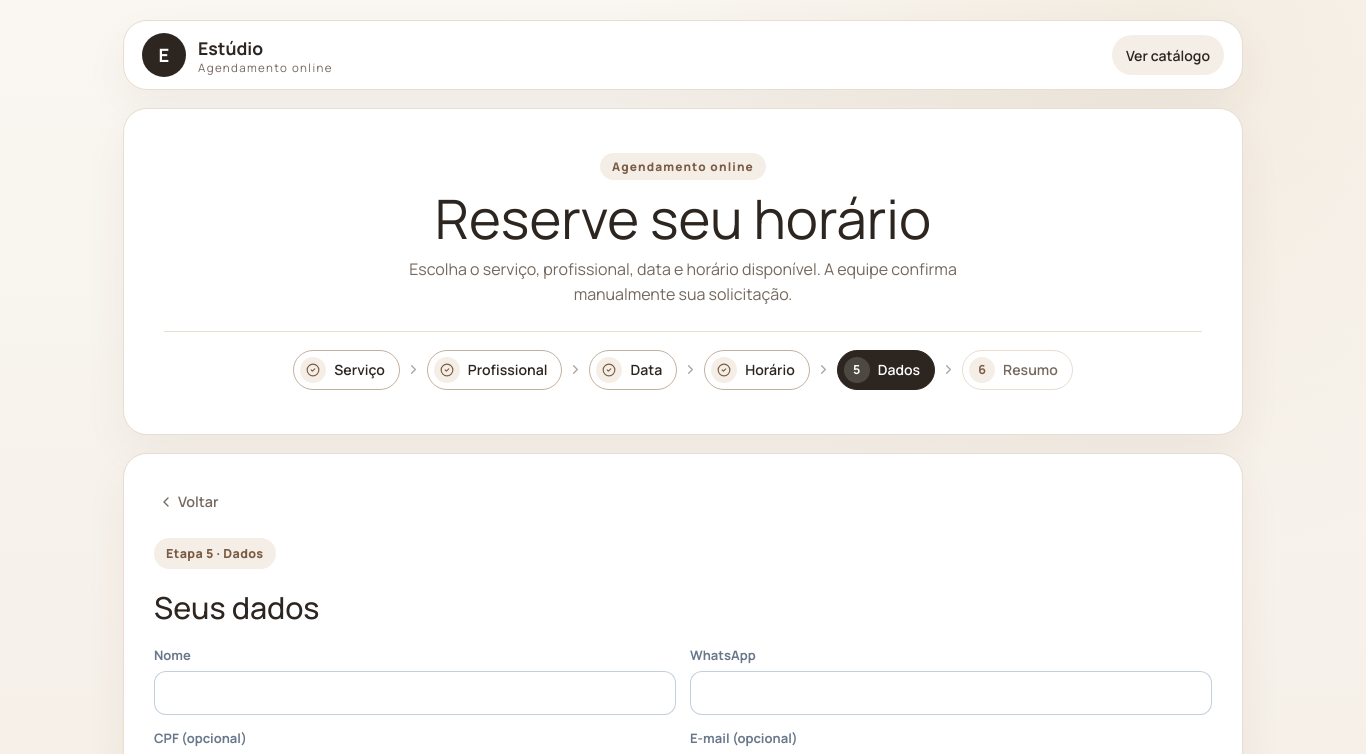
Test: PublicBooking · CPF › sem gateway, o CPF é opcional e não impede agendar
The image size is (1366, 754).
Type "Cliente Teste" into the field labelled "Nome".
click(415, 693); type("Cliente Teste")  # box [154,671,676,715]
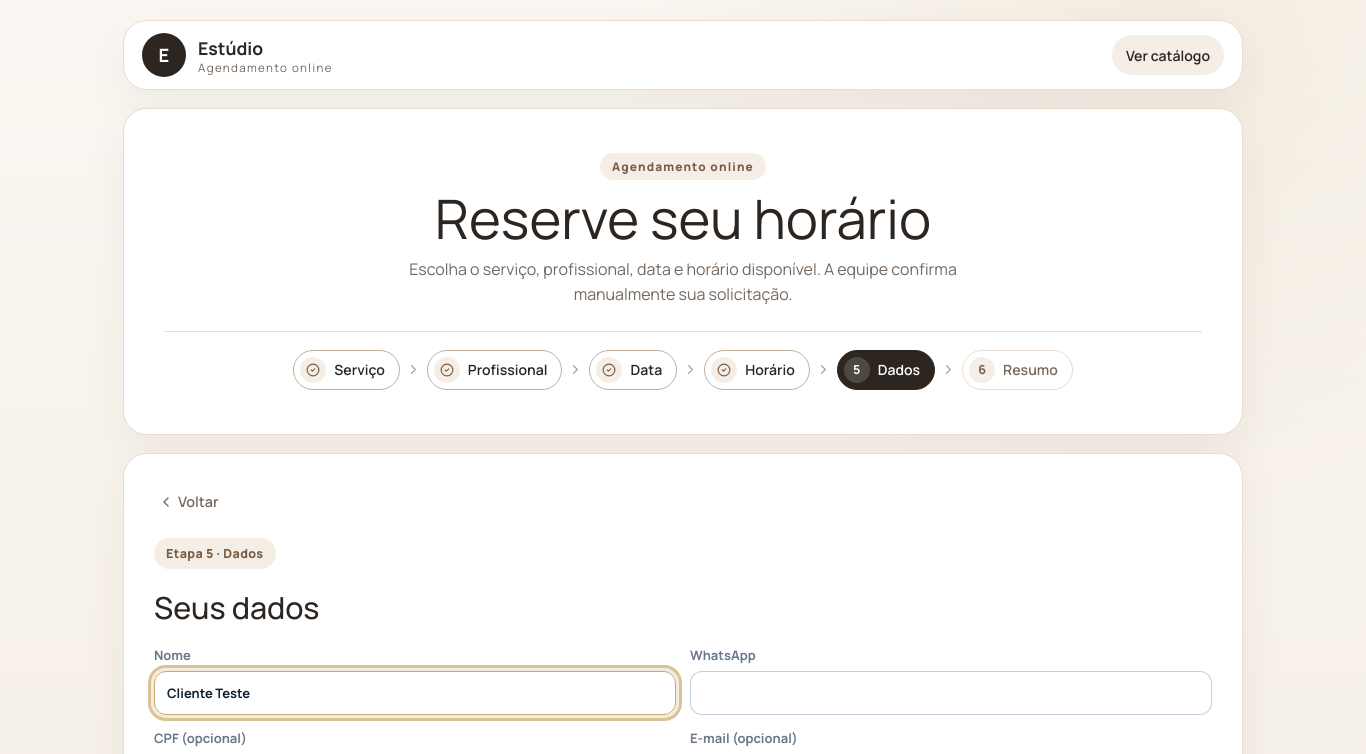
Type "11988887777" into the field labelled "WhatsApp".
click(951, 693); type("11988887777")  # box [690,671,1212,715]
(page scrolled)
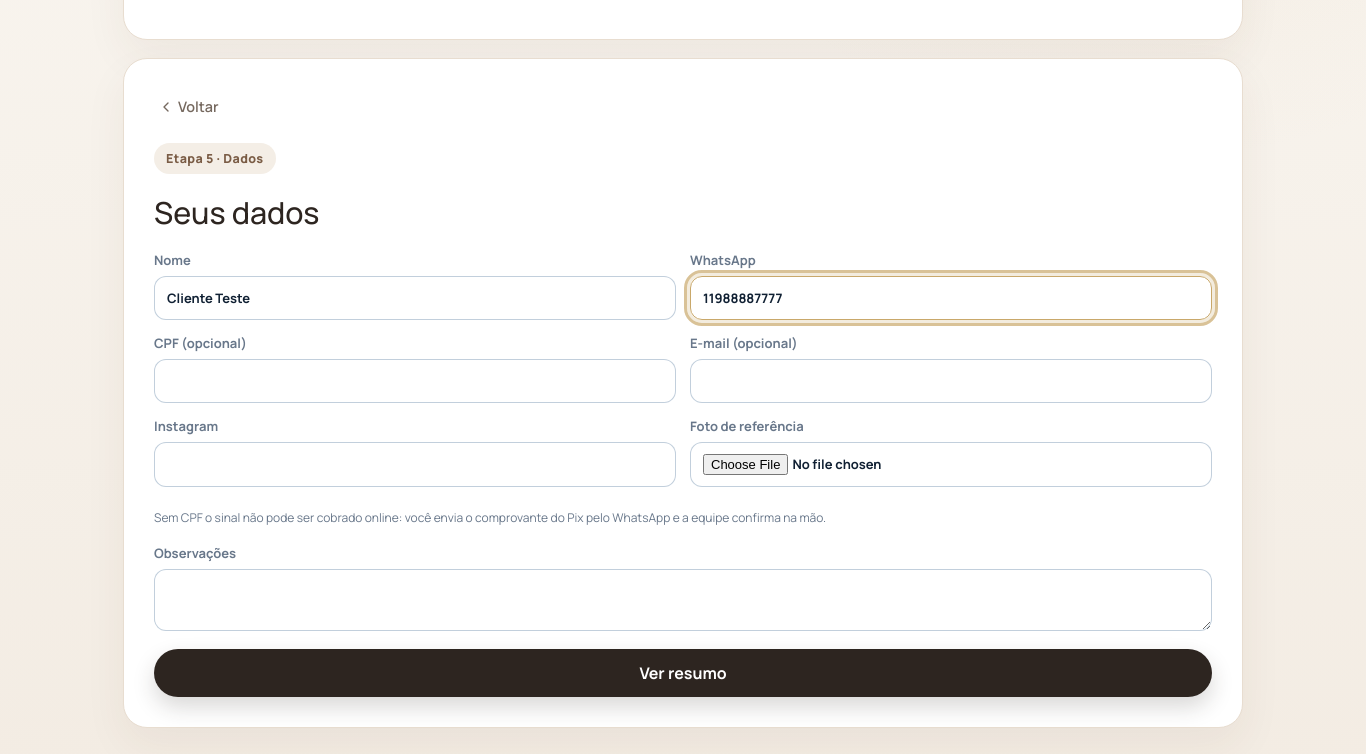
Expected: the field labelled "CPF (opcional)" is shown, [154,359,676,403]
Expected: the button "Ver resumo" is enabled, [154,649,1212,697]
